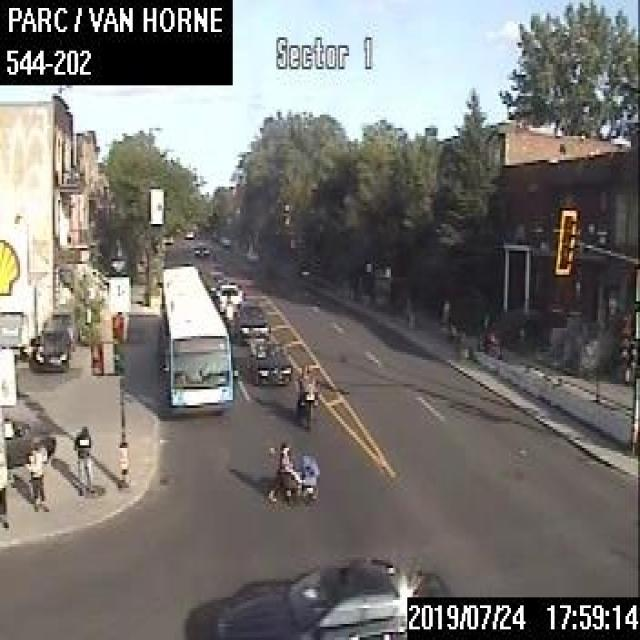bus: (160, 261, 238, 410)
pedestrian: (267, 440, 318, 504), (69, 422, 93, 502), (26, 443, 48, 512)
vehicle: (214, 552, 451, 637), (2, 416, 54, 468), (243, 338, 291, 384), (231, 298, 269, 342), (29, 329, 70, 368), (42, 305, 77, 350), (294, 362, 316, 426), (215, 282, 243, 311), (203, 269, 226, 293), (224, 292, 232, 328), (192, 240, 208, 258)
